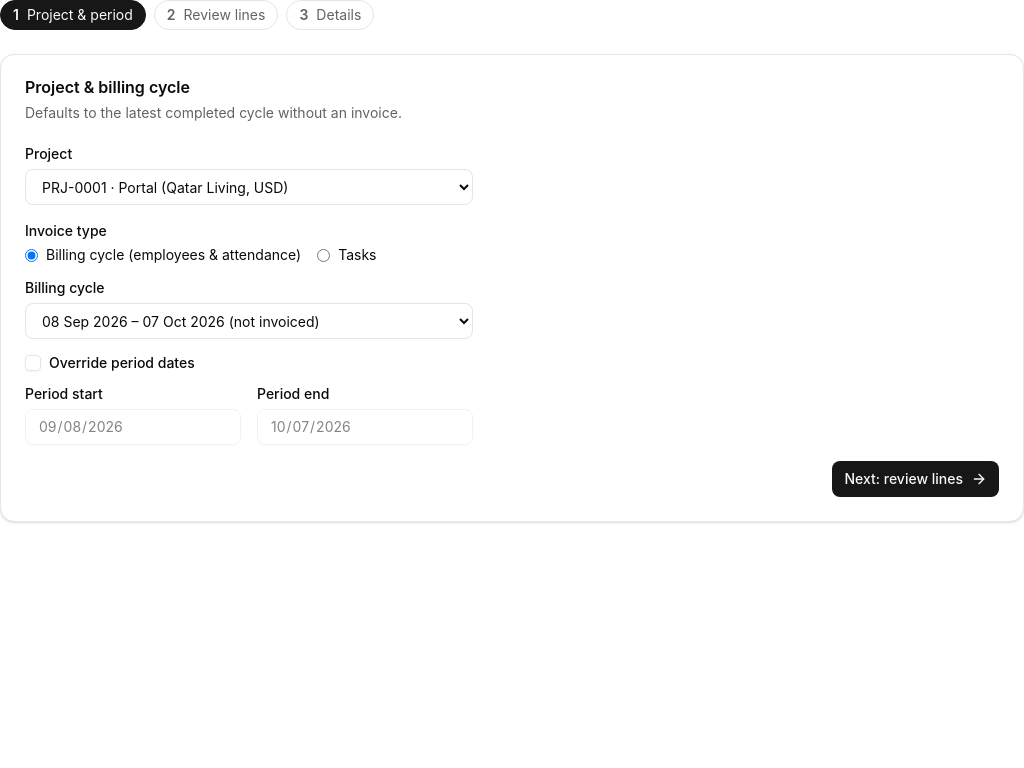
Test: InvoiceWizard › excluding a line updates totals live
The width and height of the screenshot is (1024, 768).
Click the button "Next: review lines" at (916, 479), box [832,461,999,497]
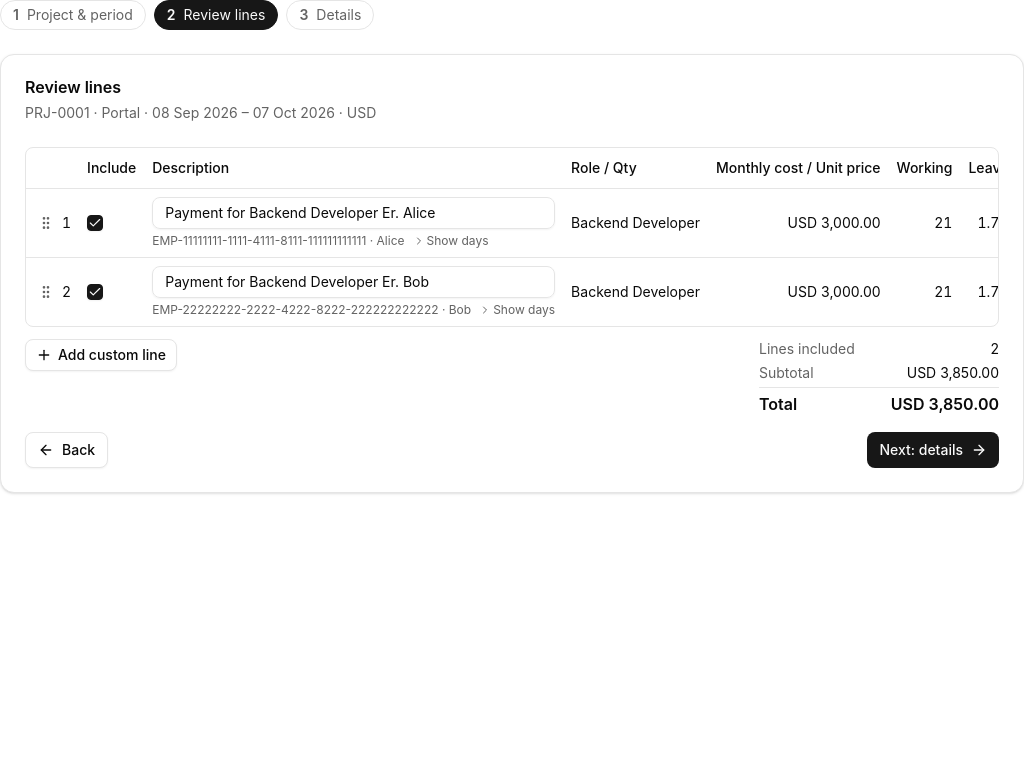
Result: the text "Review lines" is shown at [25,77,121,97]
Click the checkbox named "Include Bob" at (95, 292), box [87,284,103,300]
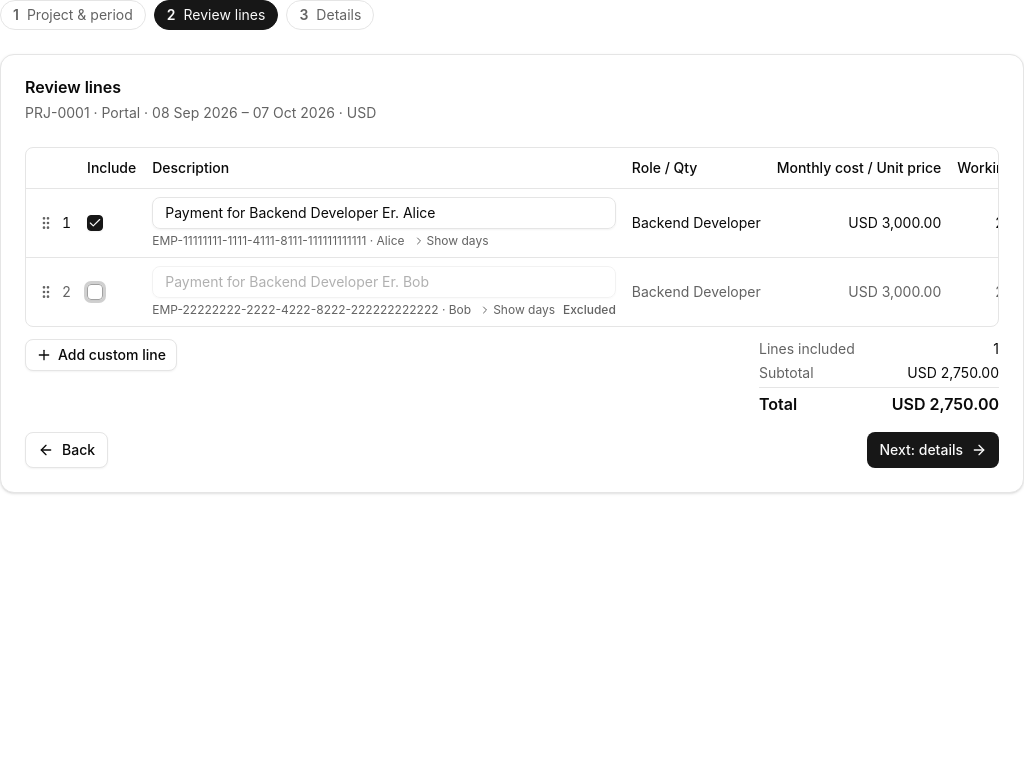
Result: the text with test id "included-count" reads "1" at [993,340,999,356]
Click the checkbox named "Include Alice" at (95, 222), box [87,214,103,230]
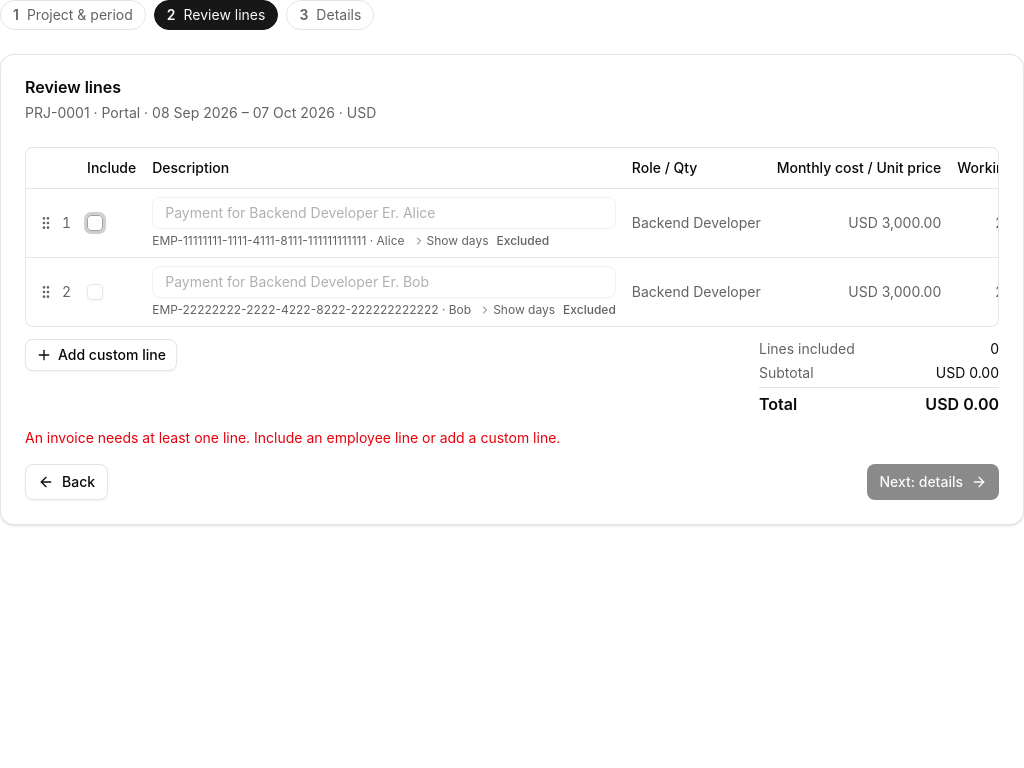
Result: the text "USD 0.00" next to "Subtotal" is shown at [936,364,999,380]
Result: the message shows "at least one line" at [25,428,560,446]
Result: the button "Next: details" is disabled at [867,464,999,500]
